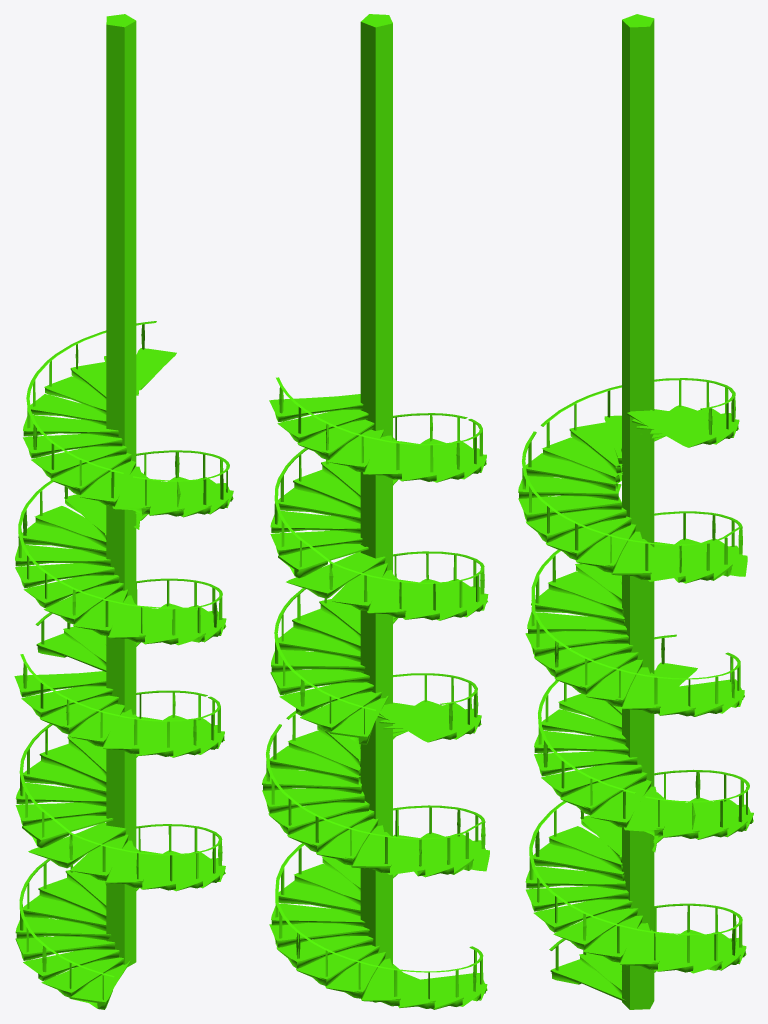
The model's file is trapp_test.fbx.
3 views of the same model, side by side, from view 1: azimuth 30°, elevation 25°; view 2: azimuth 150°, elevation 25°; view 3: azimuth 270°, elevation 25° (orthographic). The views are drawn at different scales.
Parts seen in each view (by area): view 1: staircase_2_to_5; view 2: staircase_2_to_5; view 3: staircase_2_to_5.
Boxes of the visible parts, box(x1,y1,x2,y2) form: staircase_2_to_5: box(14, 14, 233, 1009); staircase_2_to_5: box(262, 14, 489, 1009); staircase_2_to_5: box(518, 14, 753, 1009).
Size of the model in its own units: 695 by 3257 by 706.
